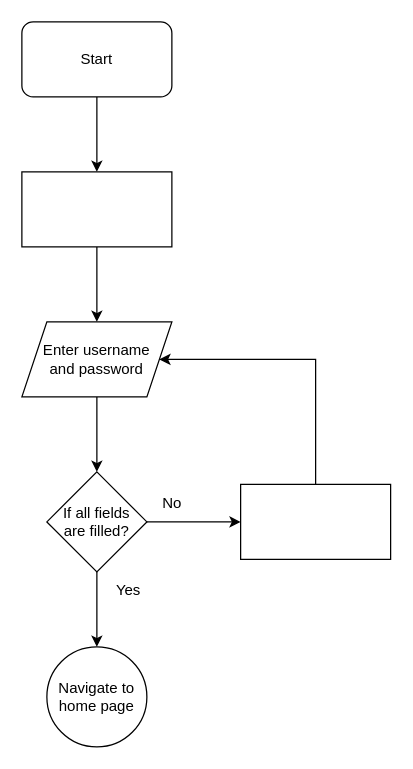
The diagram is 413 pixels wide and 769 high, and some of its shapes have lost their labels. The centre of each missing label's shape, as x and y in pixels:
"Display a form to get the user details" goes at pixel 96 209.
"Display validation errors" goes at pixel 315 521.
